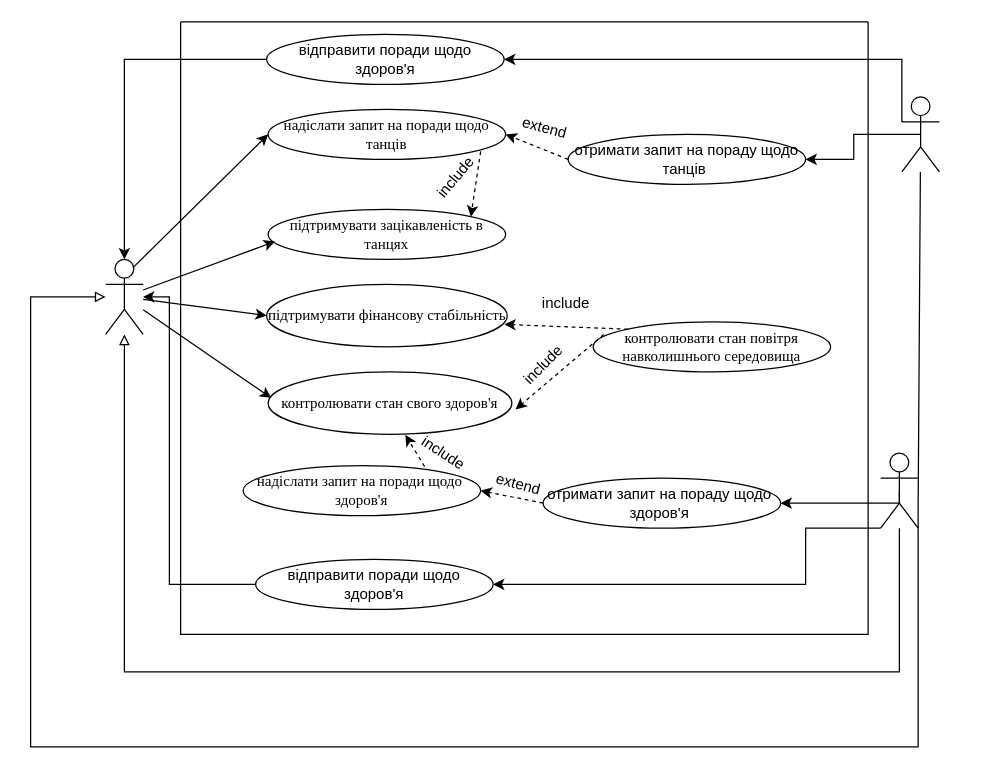
Image size: 999x779. Some labels were removed from this diagram. The shapes that lost their labels are listed below. From the top down, each one's centre as x and y in pixels, then its label:
At point 920,134: "хореограф".
At point 123,296: "Користувач".
At point 898,490: "медичний консультант".
